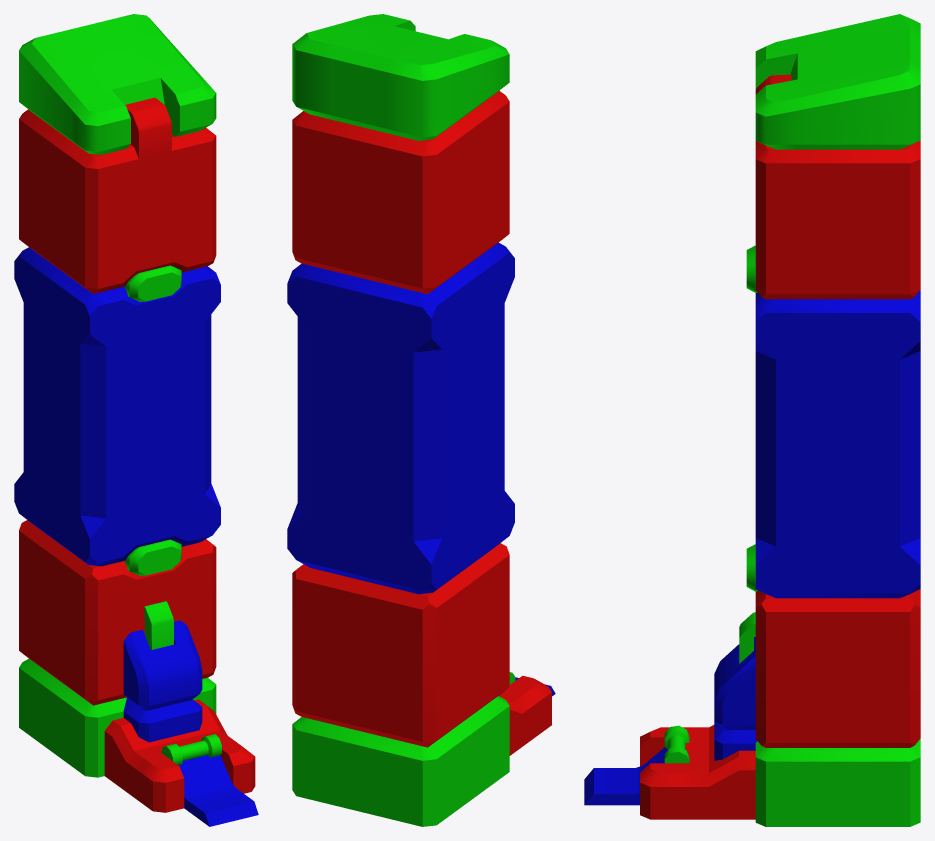
The model's file is SM_ScifiPillar01.fbx.
3 renders of one model, left to right at view 1: azimuth 30°, elevation 25°; view 2: azimuth 150°, elevation 25°; view 3: azimuth 270°, elevation 25°, orthographic. The views are drawn at different scales.
Parts seen in each view (by area): view 1: Pillar; view 2: Pillar; view 3: Pillar.
Part boxes in pixels (x1=…): Pillar: x1=14, y1=14, x2=258, y2=826; Pillar: x1=287, y1=14, x2=555, y2=826; Pillar: x1=584, y1=14, x2=920, y2=826.
Size of the model in its own units: 400 by 2000 by 815.
